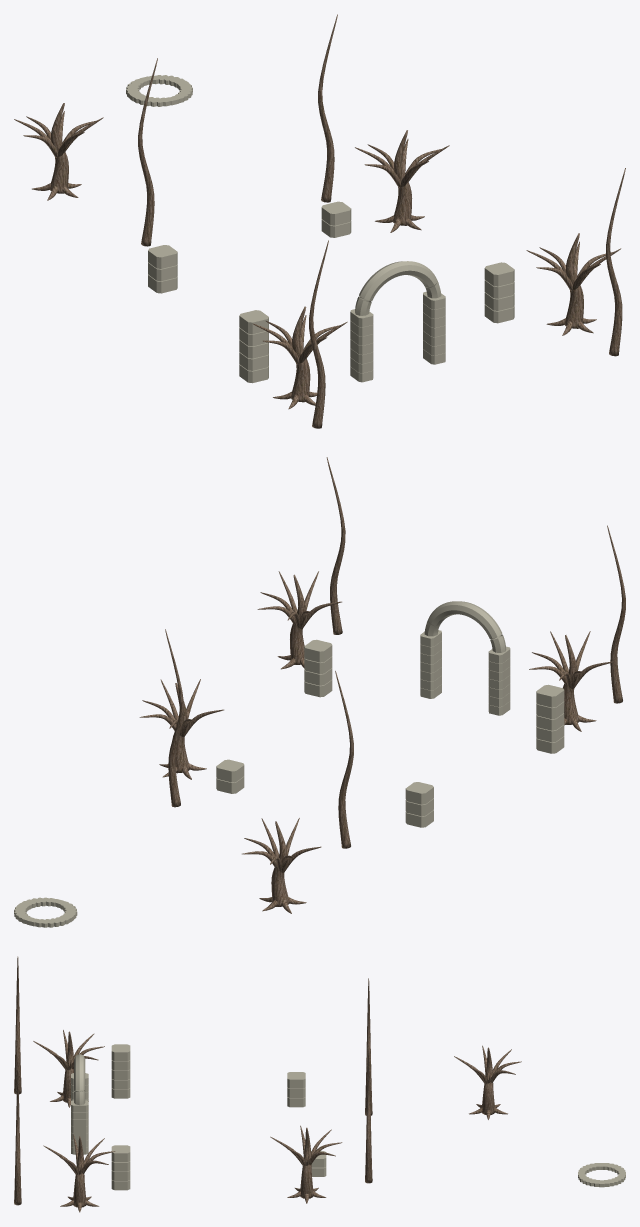
File: R3_Structure_StationRemoved.fbx
3 renders of one model, top to bottom at view 1: azimuth 30°, elevation 25°; view 2: azimuth 150°, elevation 25°; view 3: azimuth 270°, elevation 25°, orthographic. The views are drawn at different scales.
Visible parts, largest first — view 1: R3_Structure_StationRemoved; view 2: R3_Structure_StationRemoved; view 3: R3_Structure_StationRemoved.
Part boxes in pixels (<box>): R3_Structure_StationRemoved: <box>14,14,625,428</box>; R3_Structure_StationRemoved: <box>14,457,625,927</box>; R3_Structure_StationRemoved: <box>14,956,625,1212</box>.
Size of the model in its own units: 31.06 by 15.18 by 59.3.
